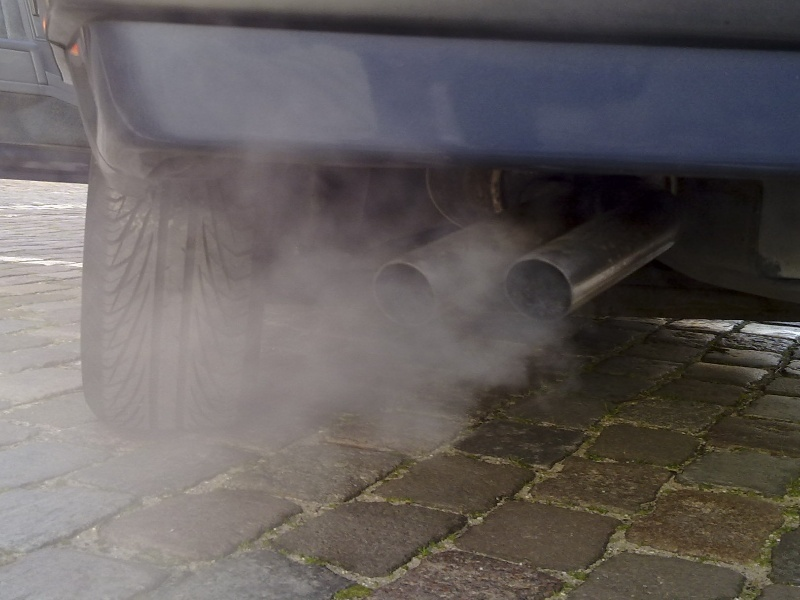smoke: (235, 243, 472, 446)
